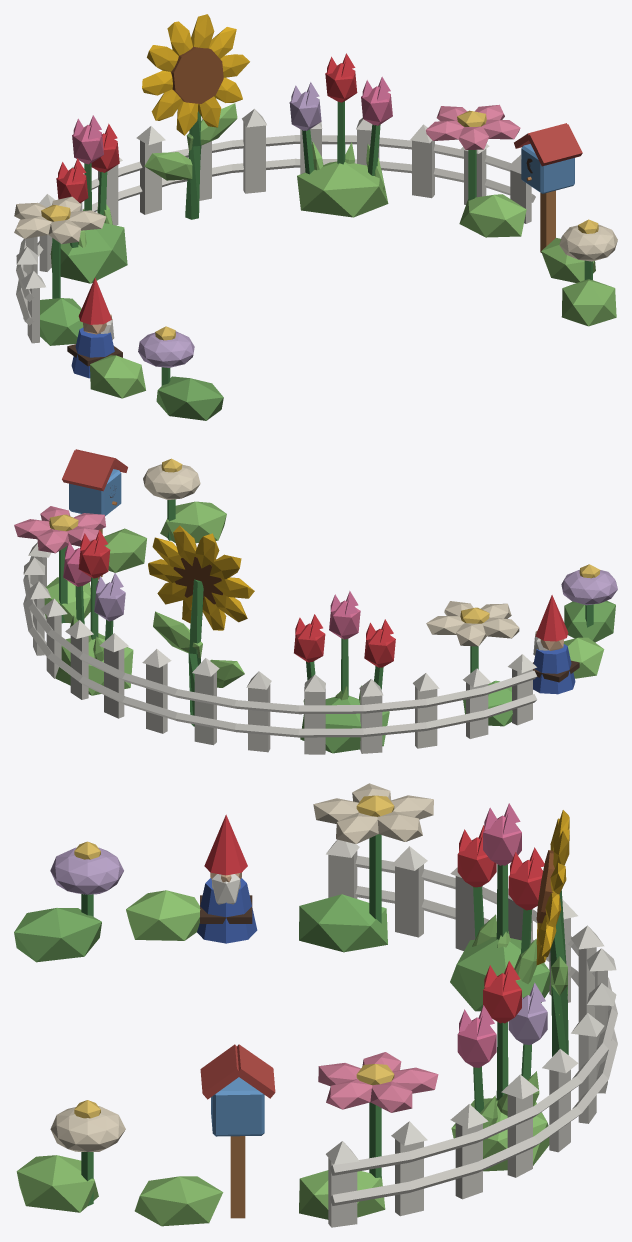
The model's file is habitat_theme_garden.fbx.
3 renders of one model, top to bottom at view 1: azimuth 30°, elevation 25°; view 2: azimuth 150°, elevation 25°; view 3: azimuth 270°, elevation 25°, orthographic. The views are drawn at different scales.
Visible parts, largest first — view 1: habitat_theme_garden; view 2: habitat_theme_garden; view 3: habitat_theme_garden.
Boxes of the visible parts, <box> form: habitat_theme_garden: <box>14,14,617,420</box>; habitat_theme_garden: <box>14,449,617,754</box>; habitat_theme_garden: <box>14,783,617,1227</box>.
Size of the model in its own units: 7.22 by 2.67 by 5.8.
